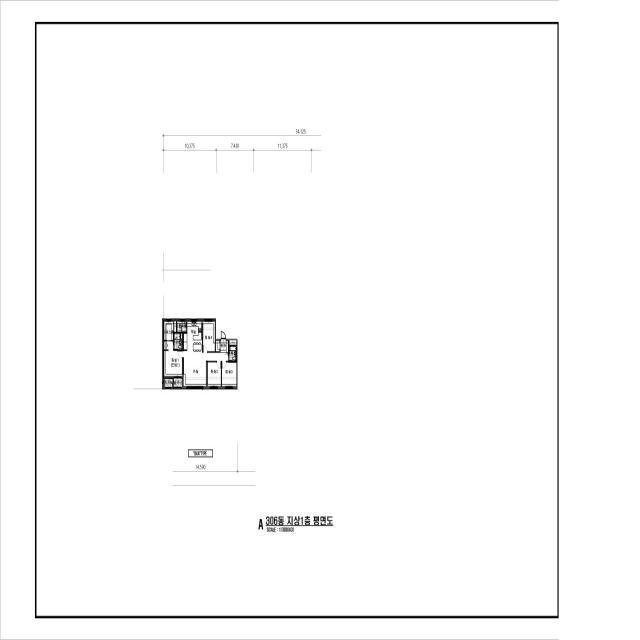space_balconi: (174, 378, 182, 387)
space_bedroom: (164, 341, 182, 376), (203, 322, 215, 351), (222, 363, 237, 386), (208, 362, 221, 386)
space_dressroom: (164, 322, 173, 340)
space_front: (216, 339, 228, 352)
space_kitchen: (184, 322, 202, 351)
space_living_room: (184, 351, 228, 386)
space_multipurpose_space: (177, 322, 186, 332)
space_other: (229, 340, 237, 345), (174, 321, 176, 332), (181, 334, 182, 339)
space_outdoor_room: (164, 379, 173, 387)
space_toilet: (229, 346, 237, 361), (174, 334, 182, 349)
